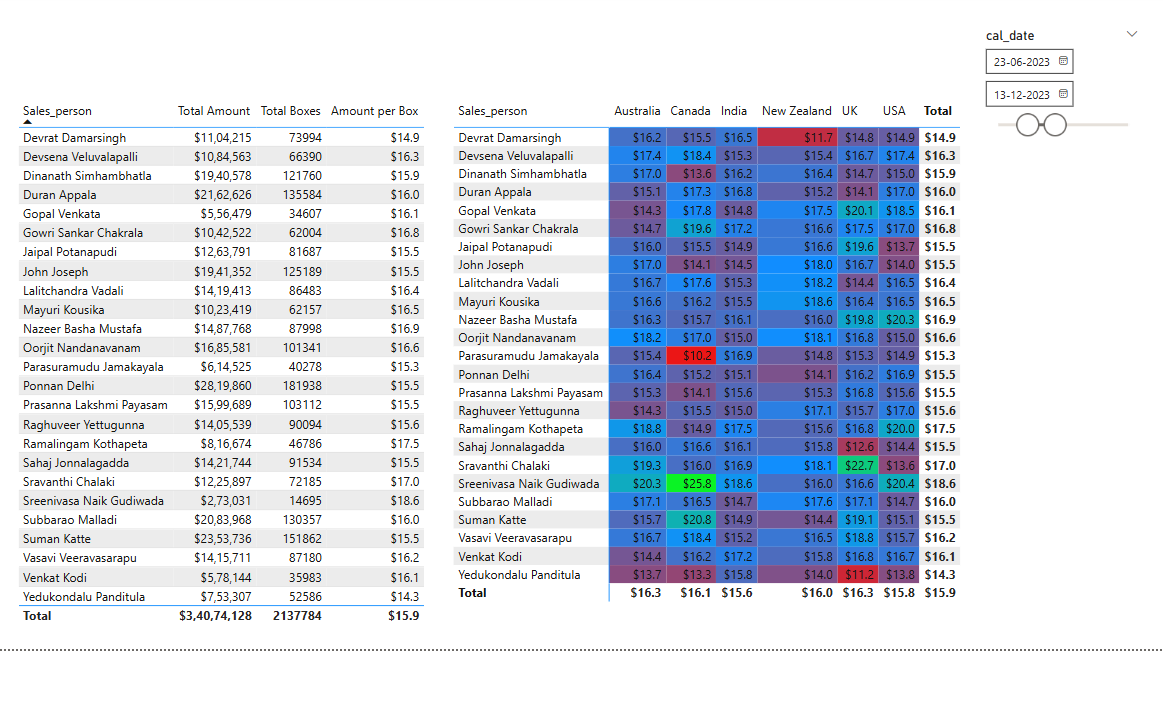

What the dashboard file says about the page in this screenshot:
{"tool":"powerbi","page":{"name":"Page 4","canvas":[1280,720],"ordinal":3},"visuals":[{"type":"tableEx","fields":{"Values":["people.Sales_person","shipments.Total Amount","shipments.Total Boxes","shipments.Amount per Box"]},"box":[16,112,464,608],"z":0},{"type":"pivotTable","fields":{"Rows":["people.Sales_person"],"Columns":["locations.Geo"],"Values":["shipments.Amount per Box"]},"box":[496,112,576,608],"z":1000},{"type":"slicer","fields":{"Values":["calendar.cal_date"]},"box":[1072,32,192,304],"z":2000}]}

Visuals, with their boxes on the page's 1280x720 design canvas (x1, y1, x2, y2). These are canvas units, not pixel positions in the 1163x714 screenshot, which may show the page scaled, cropped or inside an application window:
tableEx - people.Sales_person x shipments.Total Amount: x1=16 y1=112 x2=480 y2=720
pivotTable - people.Sales_person x locations.Geo: x1=496 y1=112 x2=1072 y2=720
slicer - calendar.cal_date: x1=1072 y1=32 x2=1264 y2=336
